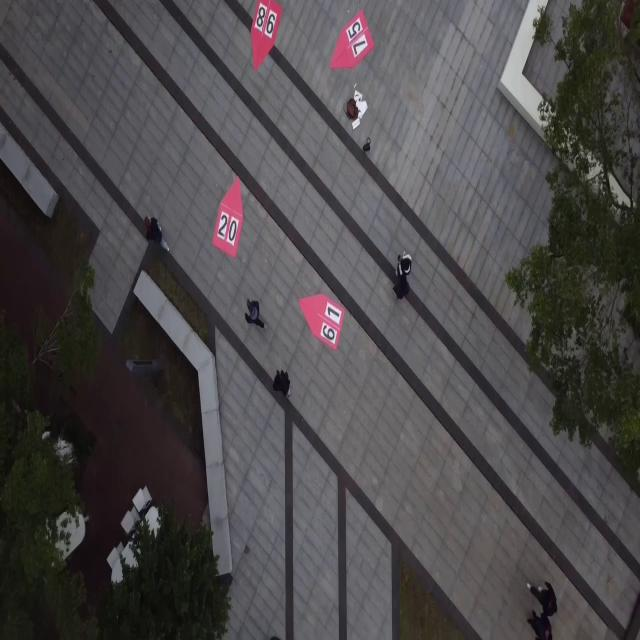-sign-: (330, 8, 375, 70), (297, 294, 342, 354), (212, 175, 244, 259), (250, 0, 282, 71)
